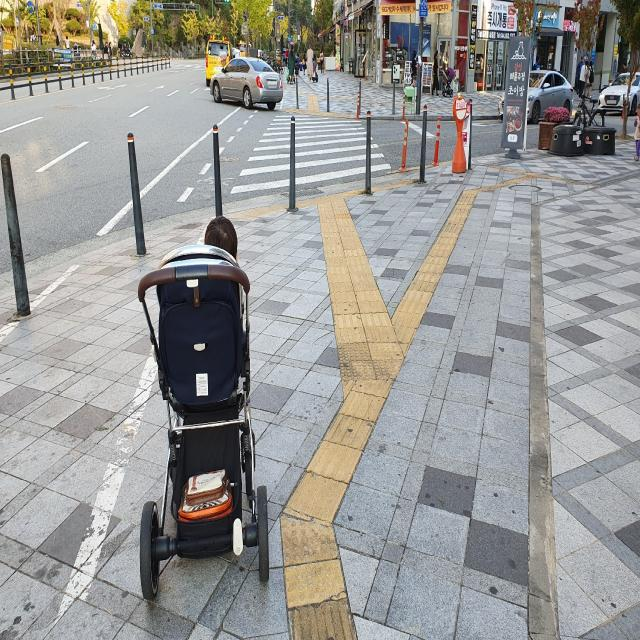횡단보도: (230, 114, 392, 196)
